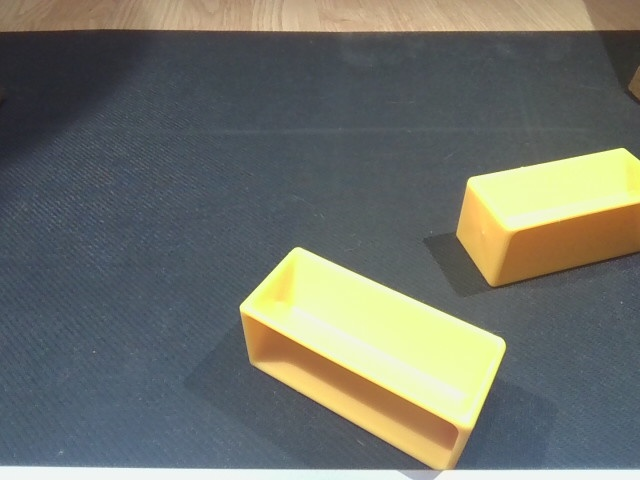YellowSample: (234, 244, 509, 471), (451, 142, 640, 290)
